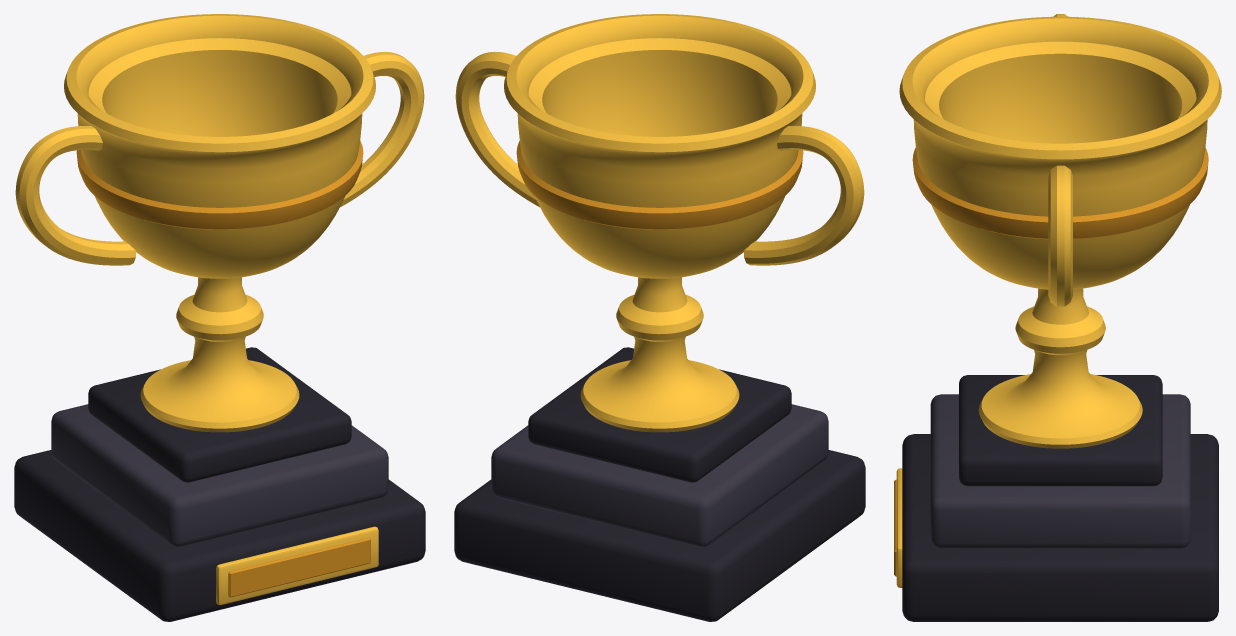
File: trophy-gold.glb
3 views of the same model, side by side, from view 1: azimuth 30°, elevation 25°; view 2: azimuth 150°, elevation 25°; view 3: azimuth 270°, elevation 25° (orthographic). The views are drawn at different scales.
Visible parts, largest first — view 1: Trophy; view 2: Trophy; view 3: Trophy.
Part boxes in pixels (x1,y1,x2,y2): Trophy: [14, 14, 425, 621]; Trophy: [454, 14, 865, 621]; Trophy: [894, 14, 1221, 621].
Bounding box in the file's own units: 0.8532 × 0.932 × 0.5795.
